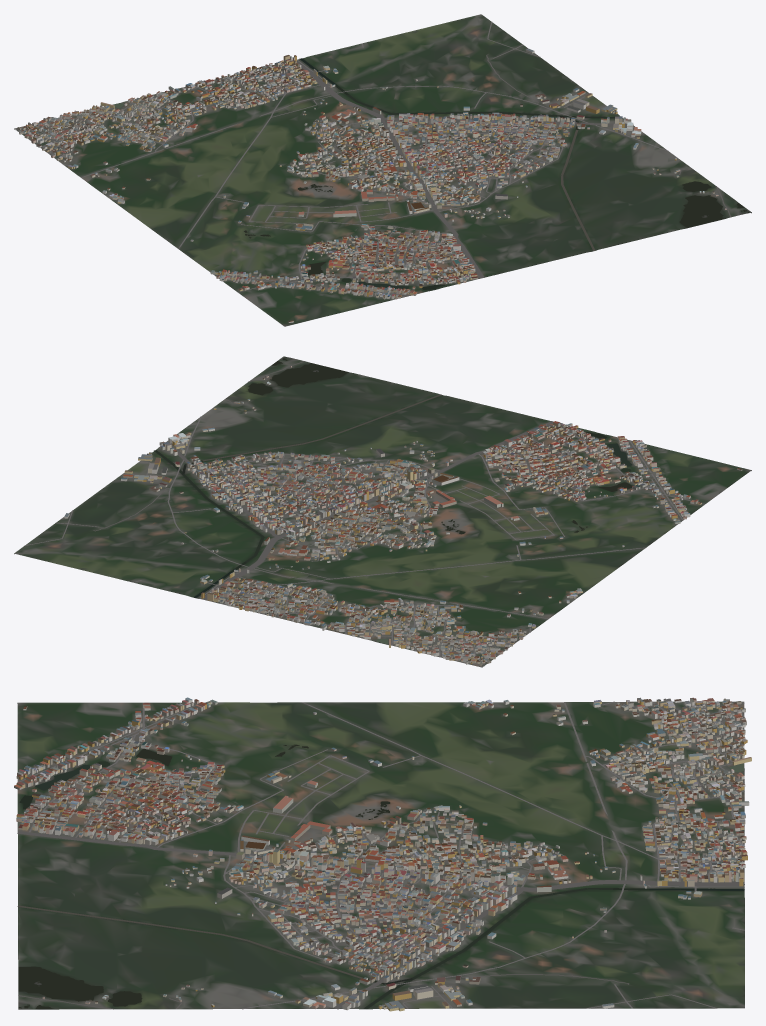
3 views of the same model, one above another, from view 1: azimuth 30°, elevation 25°; view 2: azimuth 150°, elevation 25°; view 3: azimuth 270°, elevation 25° (orthographic). The views are drawn at different scales.
Parts seen in each view (by area): view 1: ground, buildings, roads, water; view 2: ground, buildings, roads, water; view 3: ground, buildings, roads, water.
Boxes of the visible parts, box(x1,y1,x2,y2) form: ground: box(14, 14, 751, 326); buildings: box(17, 48, 726, 322); roads: box(15, 21, 730, 296); water: box(112, 58, 748, 289); ground: box(14, 356, 751, 667); buildings: box(64, 365, 742, 666); roads: box(24, 361, 705, 666); water: box(154, 357, 632, 644); ground: box(17, 701, 744, 1009); buildings: box(14, 697, 751, 1011); roads: box(17, 701, 744, 1009); water: box(17, 744, 744, 1009).
Size of the model in its own units: 1418 by 31.25 by 1423.
